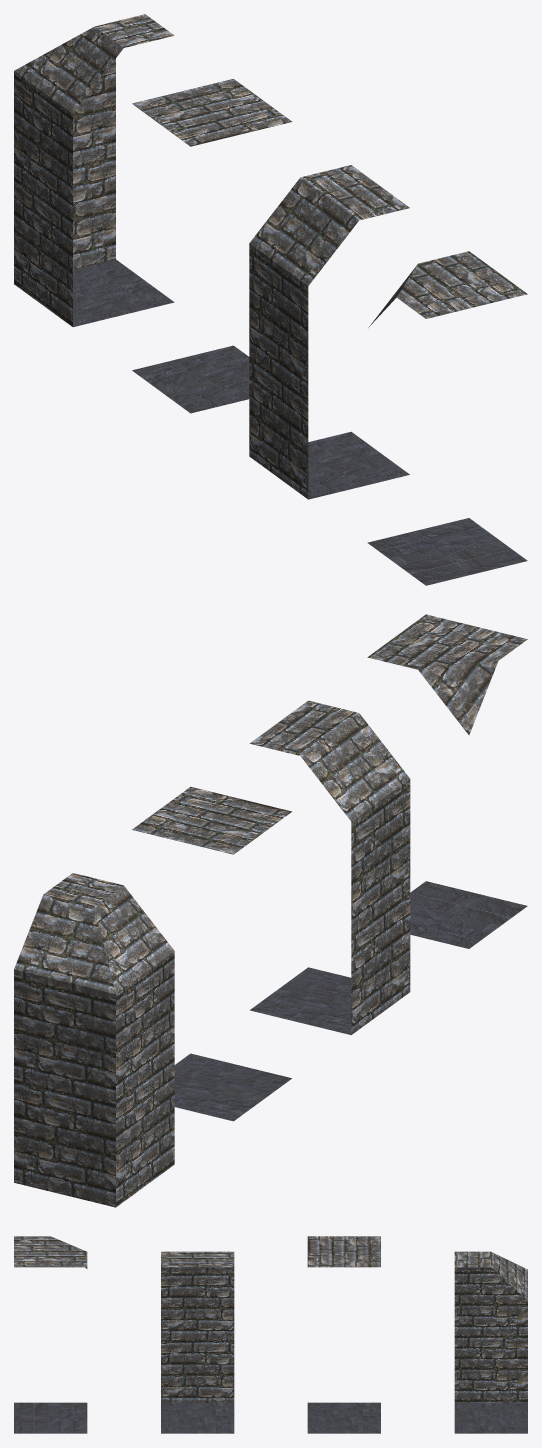
Rendered from tile.glb.
3 views of the same model, one above another, from view 1: azimuth 30°, elevation 25°; view 2: azimuth 150°, elevation 25°; view 3: azimuth 270°, elevation 25° (orthographic). The views are drawn at different scales.
Parts seen in each view (by area): view 1: corner_in_cl, wall_cl, corner_out_cl, cailing_cl; view 2: corner_in_cl, wall_cl, corner_out_cl, cailing_cl; view 3: wall_cl, corner_in_cl, cailing_cl, corner_out_cl.
Part boxes in pixels (<box>): corner_in_cl: <box>14,14,174,326</box>; wall_cl: <box>249,165,409,499</box>; corner_out_cl: <box>367,251,527,585</box>; cailing_cl: <box>132,79,291,413</box>; corner_in_cl: <box>14,873,174,1207</box>; wall_cl: <box>250,700,410,1035</box>; corner_out_cl: <box>367,614,527,948</box>; cailing_cl: <box>132,786,291,1121</box>; wall_cl: <box>161,1251,234,1433</box>; corner_in_cl: <box>454,1251,527,1433</box>; cailing_cl: <box>307,1236,380,1433</box>; corner_out_cl: <box>14,1236,87,1433</box>.
Bounding box in the file's own units: 2 × 5 × 14.
2 materials, 2 textured.
